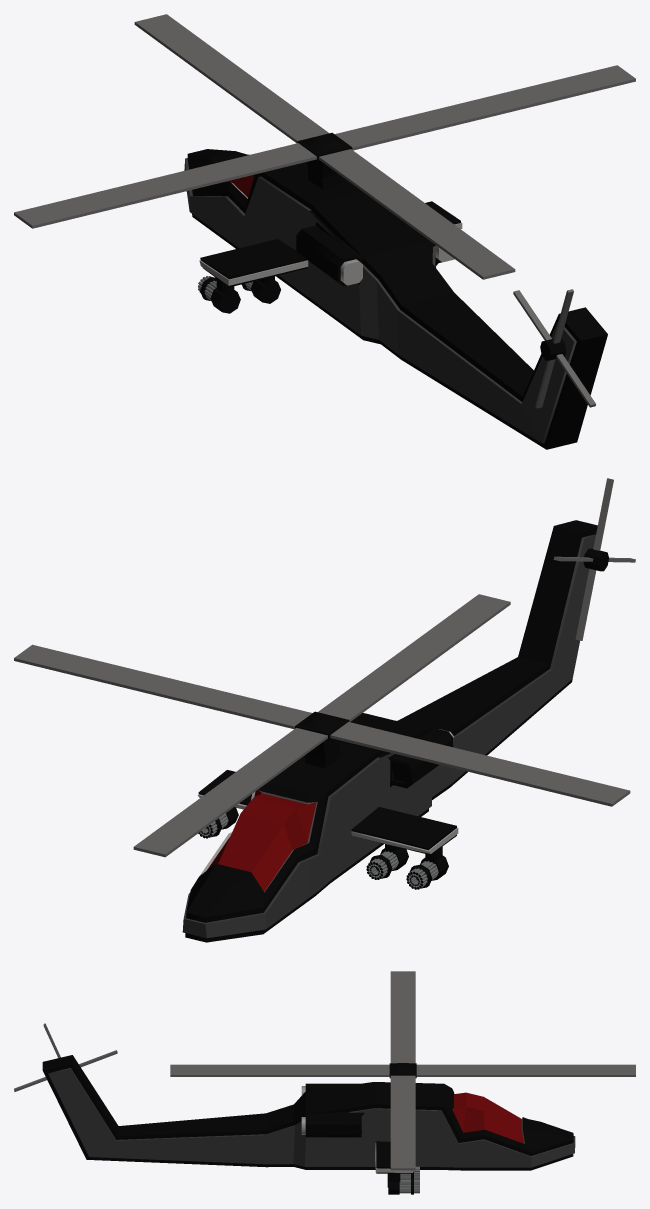
Rendered from EnemyApache.fbx.
3 views of the same model, one above another, from view 1: azimuth 30°, elevation 25°; view 2: azimuth 150°, elevation 25°; view 3: azimuth 270°, elevation 25° (orthographic). The views are drawn at different scales.
Visible parts, largest first — view 1: Cube; view 2: Cube; view 3: Cube.
Boxes of the visible parts, x1=… form: Cube: x1=14, y1=14, x2=635, y2=449; Cube: x1=14, y1=478, x2=635, y2=942; Cube: x1=14, y1=971, x2=635, y2=1194.
Bounding box in the file's own units: 919 × 279 × 1228.
1 material, 1 textured.
